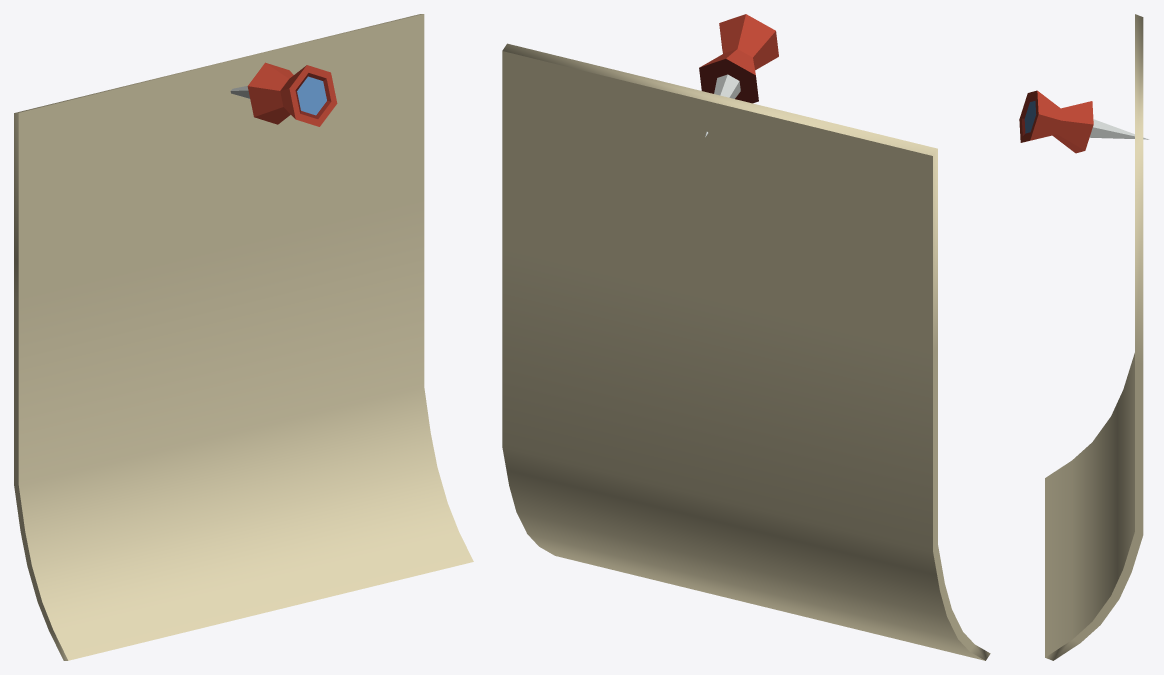
File: QR_Note.glb
3 renders of one model, left to right at view 1: azimuth 30°, elevation 25°; view 2: azimuth 150°, elevation 25°; view 3: azimuth 270°, elevation 25°, orthographic. The views are drawn at different scales.
Parts seen in each view (by area): view 1: QR_Note; view 2: QR_Note; view 3: QR_Note.
Part boxes in pixels (left/top/right/bottom): QR_Note: left=14, top=14, right=473, bottom=660; QR_Note: left=502, top=14, right=990, bottom=660; QR_Note: left=1019, top=14, right=1148, bottom=660.
Size of what is drawn, in the model's own units: 0.4616 by 0.5932 by 0.1415.
1 material, 1 textured.
